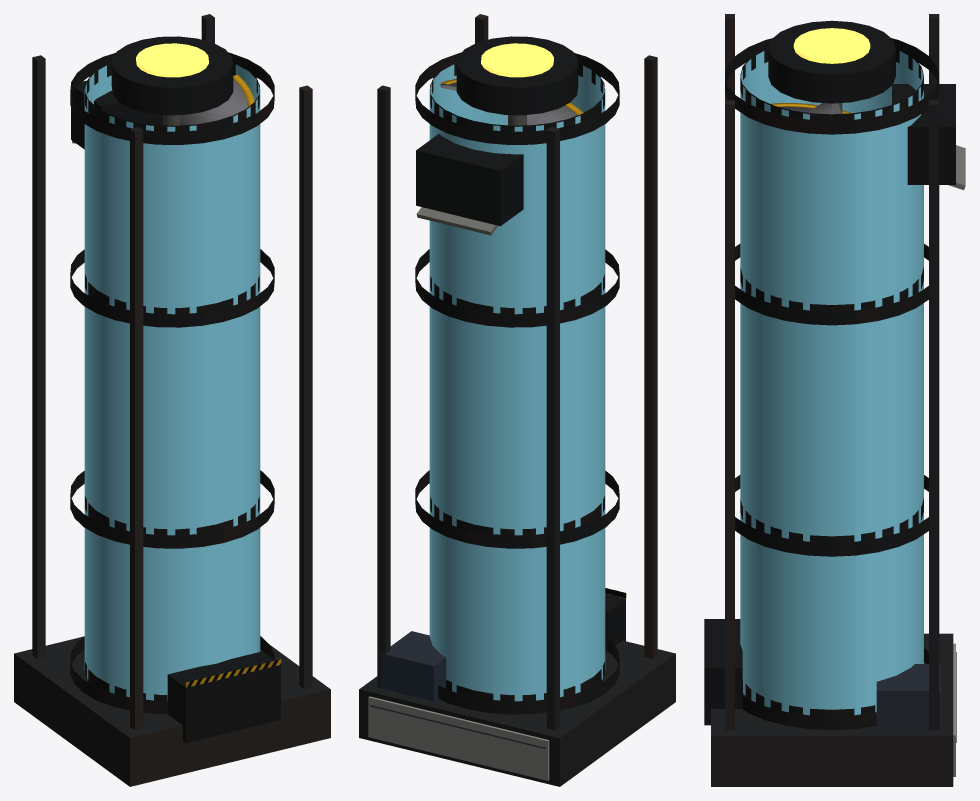
File: concept_screw_elevator.glb
The picture shows the model from 3 angles, left to right: view 1: azimuth 30°, elevation 25°; view 2: azimuth 150°, elevation 25°; view 3: azimuth 270°, elevation 25°; orthographic projection. The views are drawn at different scales.
Parts seen in each view (by area): view 1: Glass, Frame, Screw; view 2: Frame, Glass, Screw; view 3: Glass, Frame, Screw.
Part boxes in pixels (box(x1,y1,x2,y2)): Glass: box(84, 64, 260, 700); Frame: box(14, 14, 330, 786); Screw: box(163, 74, 254, 125); Frame: box(359, 14, 675, 786); Glass: box(429, 64, 605, 701); Screw: box(440, 79, 583, 125); Glass: box(740, 51, 923, 715); Frame: box(704, 14, 965, 786); Screw: box(771, 103, 851, 114).
Bounding box in the file's own units: 1.9 × 5.98 × 2.05.
